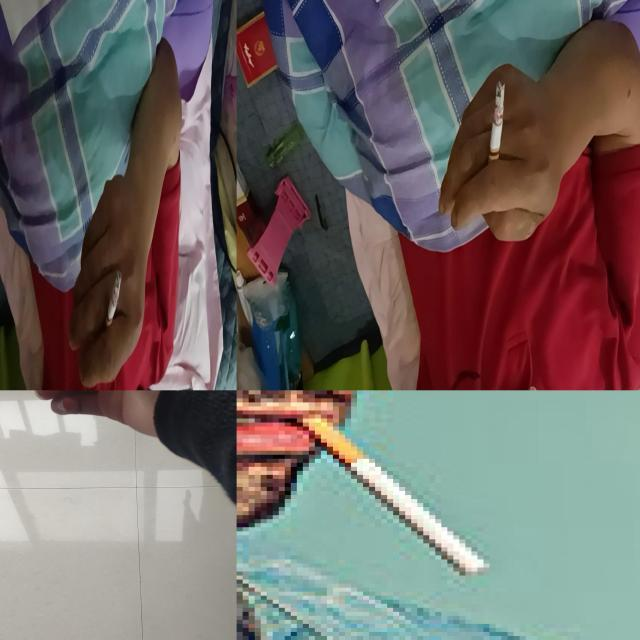smoke: (296, 410, 489, 572), (485, 80, 506, 186), (104, 270, 122, 334)
